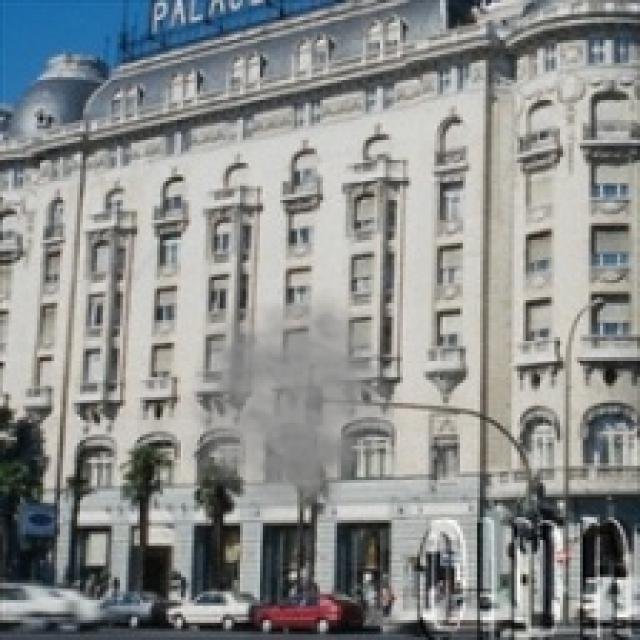Smoke: (168, 288, 398, 532)
